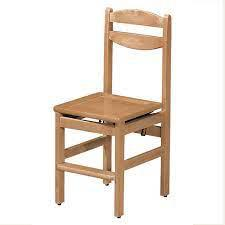chair: (38, 4, 178, 216)
